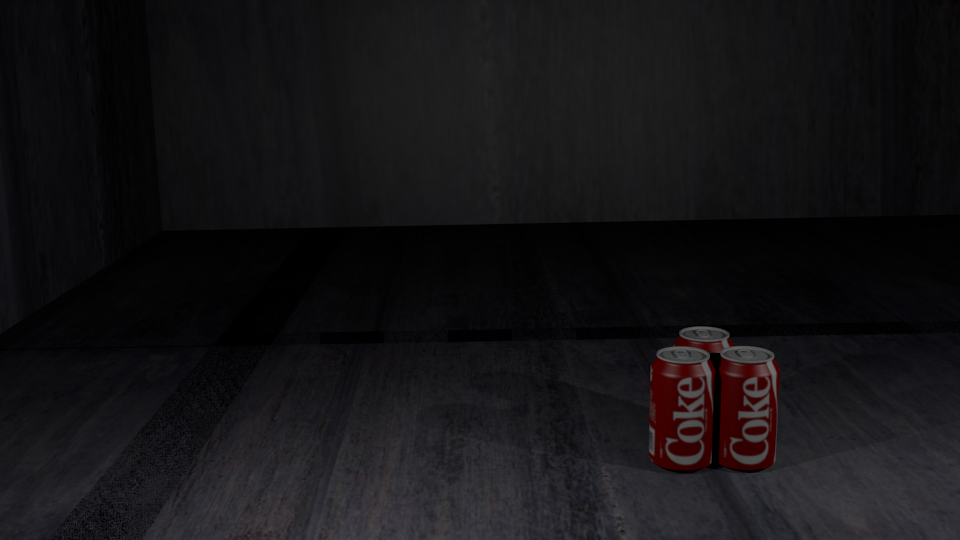cola_can: (713, 346, 779, 466), (650, 347, 714, 467), (674, 327, 733, 440)
